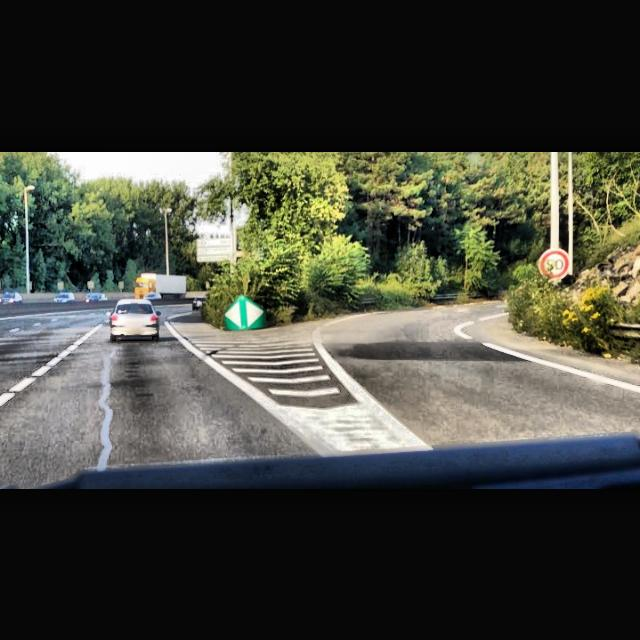speed_50: (540, 249, 570, 277)
